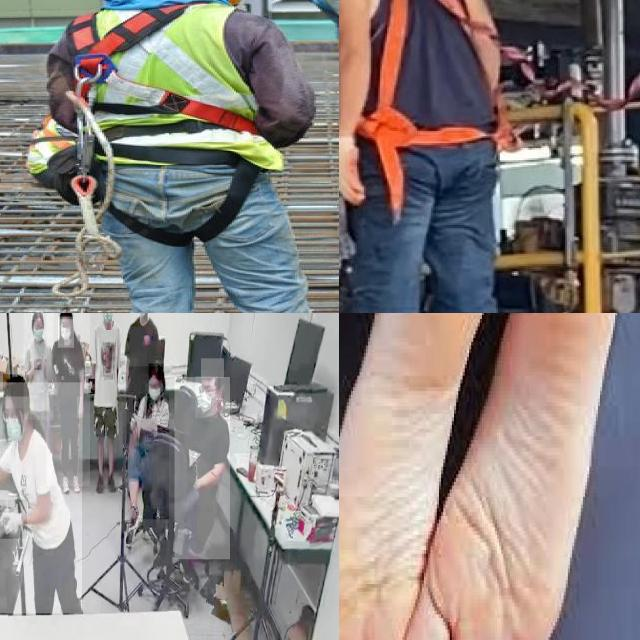Barefoots: (400, 313, 630, 640), (339, 313, 486, 640)
Harness: (48, 6, 284, 252), (344, 0, 502, 220)
face_mask: (196, 376, 218, 419), (2, 408, 24, 446), (58, 316, 74, 348), (32, 321, 46, 344), (149, 380, 161, 406), (102, 313, 112, 325)
hand_glove: (0, 499, 27, 539)
hand_noglove: (77, 396, 84, 418), (88, 379, 96, 395), (34, 359, 42, 371)
head_nohelmet: (3, 374, 29, 398), (201, 358, 225, 379), (149, 364, 165, 381), (58, 313, 74, 320), (31, 313, 44, 321)
person: (0, 382, 82, 614), (174, 377, 230, 560), (46, 313, 90, 487), (83, 313, 124, 485), (126, 366, 170, 520), (24, 313, 54, 421)
shoes: (70, 471, 82, 495), (107, 471, 117, 495), (60, 474, 70, 496), (96, 474, 104, 495)
